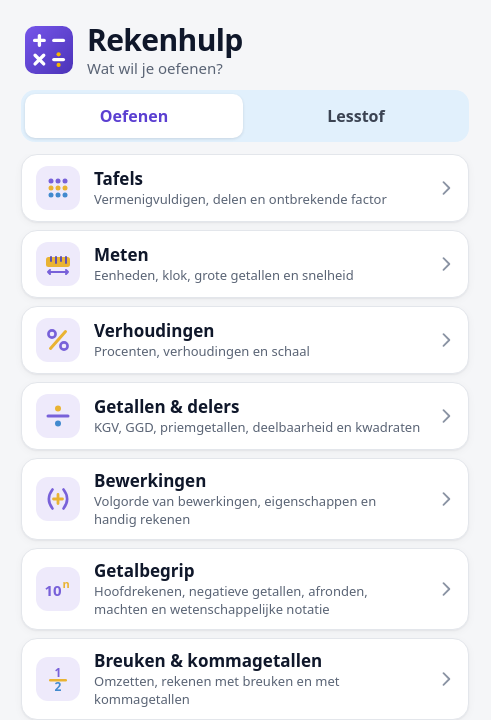
Test case: App › system back is ignored during a session, also when repeated
This screenshot has width=491, height=720.
What coordinates should you click on to do the following:
click the button "Tafels Vermenigvuldigen, delen en ontbrekende factor"
I would click on:
 (245, 188)
Its box is [21,154,469,222].
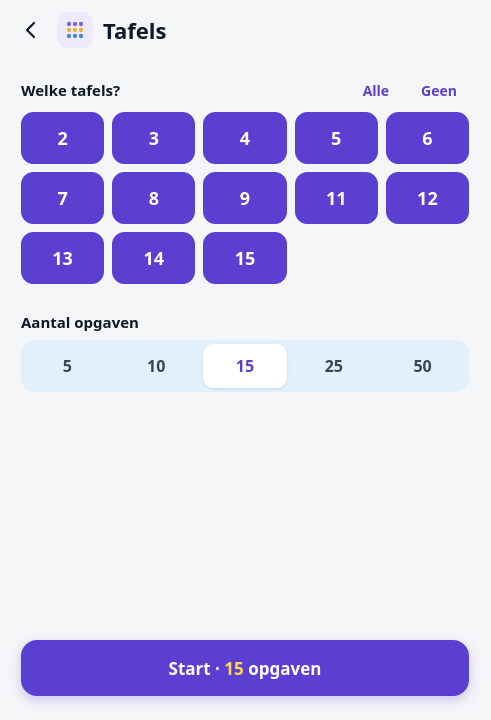
What coordinates should you click on to do the following:
click the button "Start · 15 opgaven"
I would click on:
 (245, 668)
Its box is [21,640,469,696].
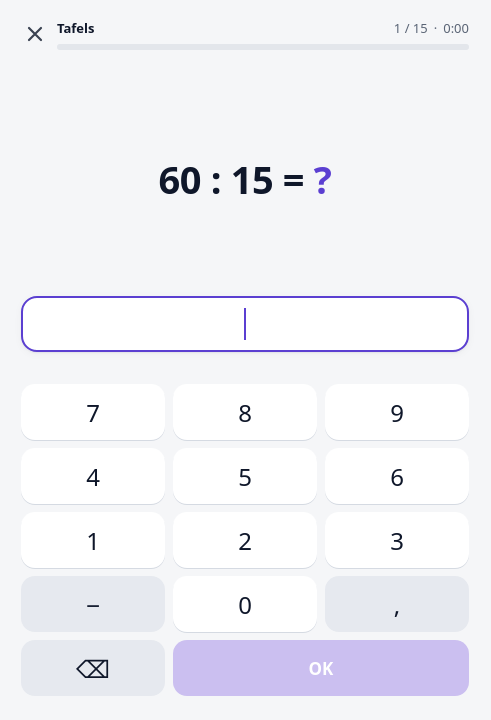
Now the text "1 / 15" is shown, box [394,18,428,38]
